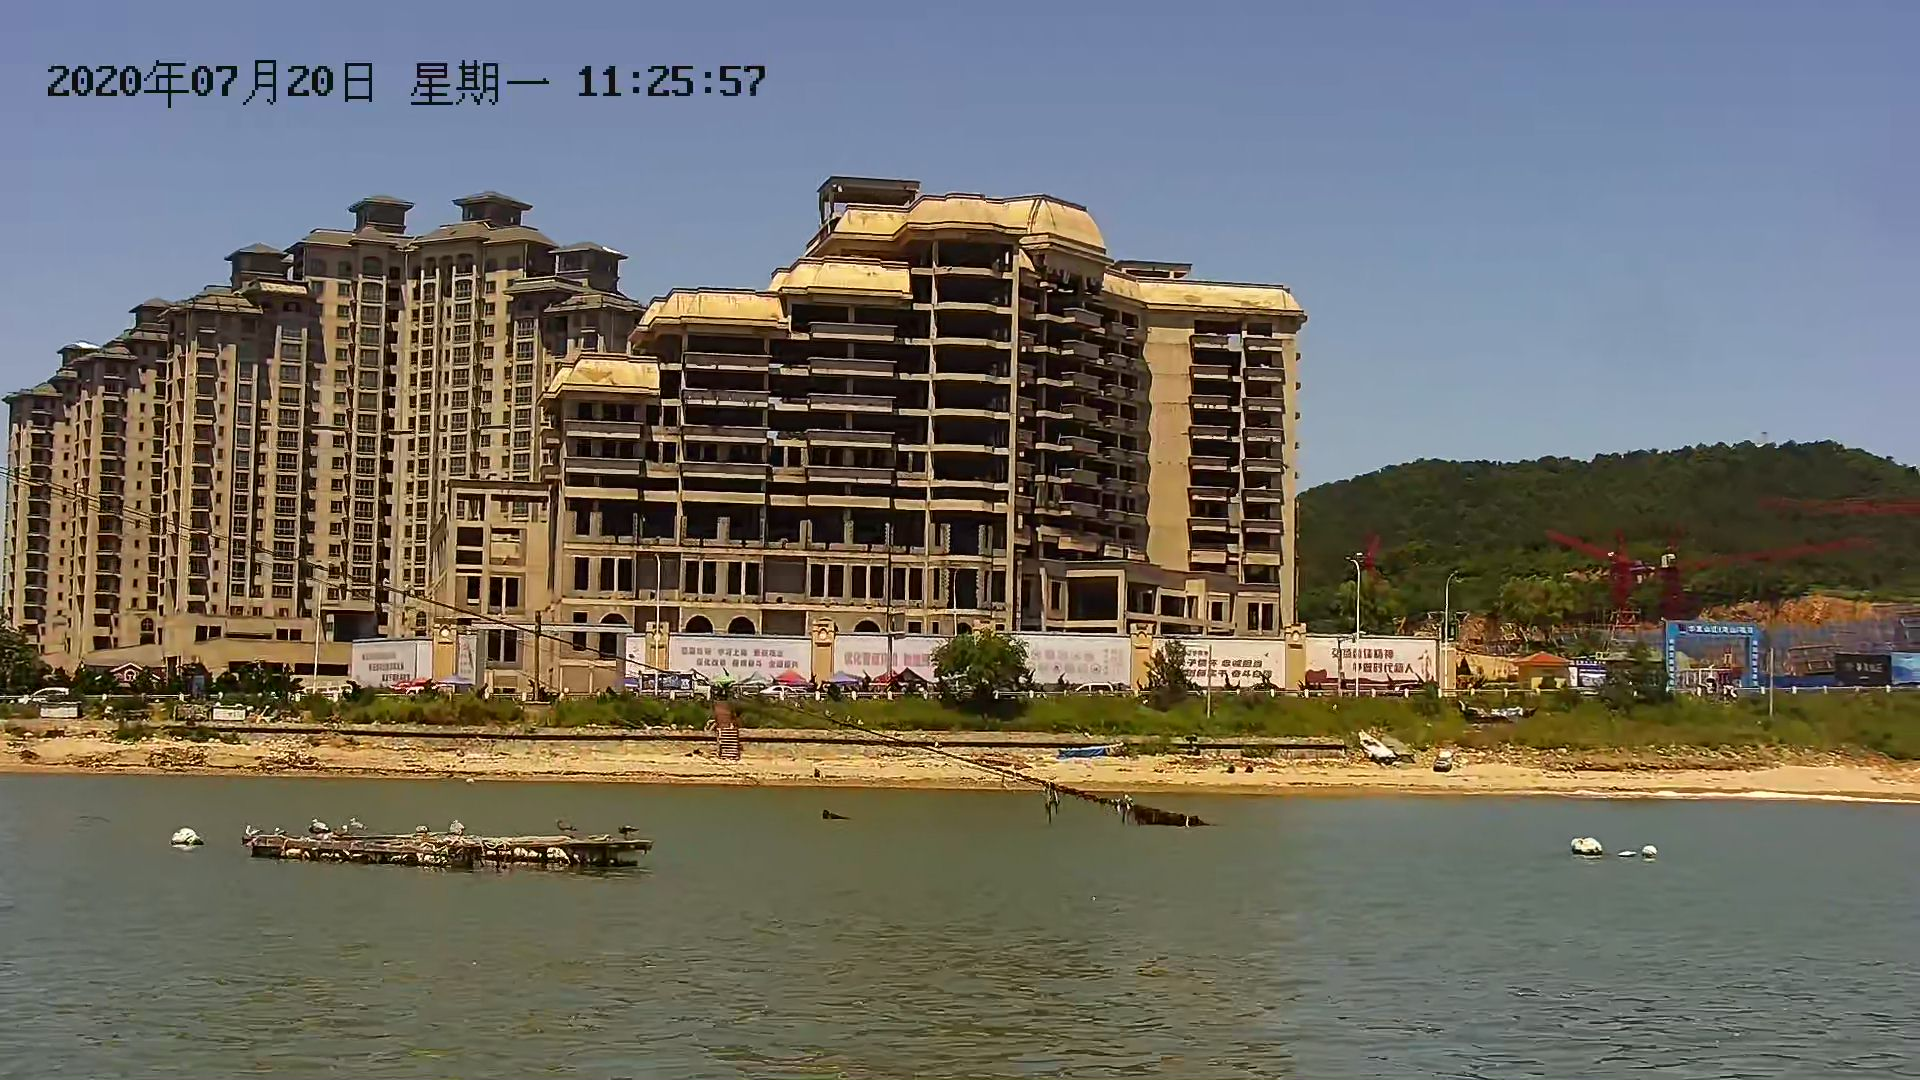ball: (1569, 832, 1615, 858), (166, 824, 207, 849), (1629, 839, 1655, 861)
platform: (244, 804, 671, 868)
